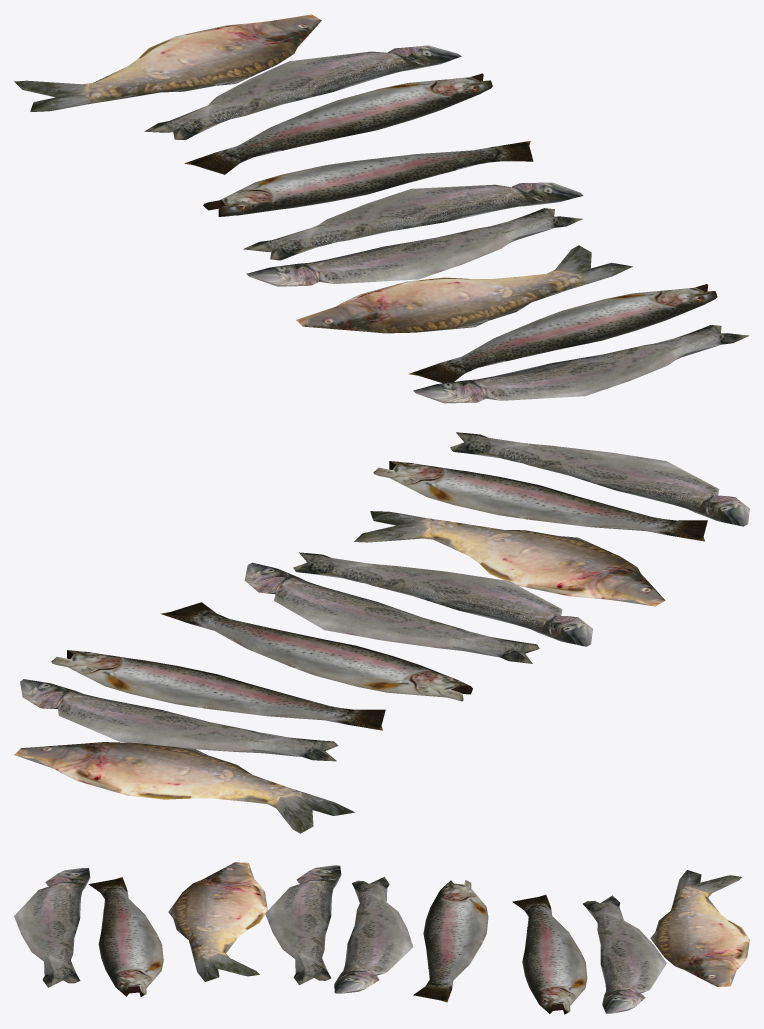
File: fish_booth02_LOD02.fbx
The picture shows the model from 3 angles, top to bottom: view 1: azimuth 30°, elevation 25°; view 2: azimuth 150°, elevation 25°; view 3: azimuth 270°, elevation 25°; orthographic projection. The views are drawn at different scales.
Parts seen in each view (by area): view 1: Mesh Object; view 2: Mesh Object; view 3: Mesh Object.
Part boxes in pixels (x1,y1,x2,y2): Mesh Object: (14, 14, 749, 403); Mesh Object: (14, 432, 749, 833); Mesh Object: (14, 862, 749, 1014).
Size of the model in its own units: 0.8208 by 0.0264 by 1.69.
